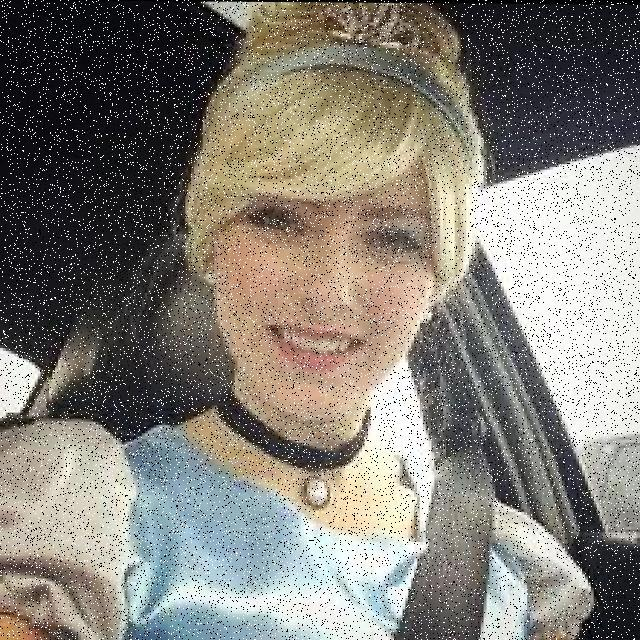seatbelt: (119, 403, 576, 640)
